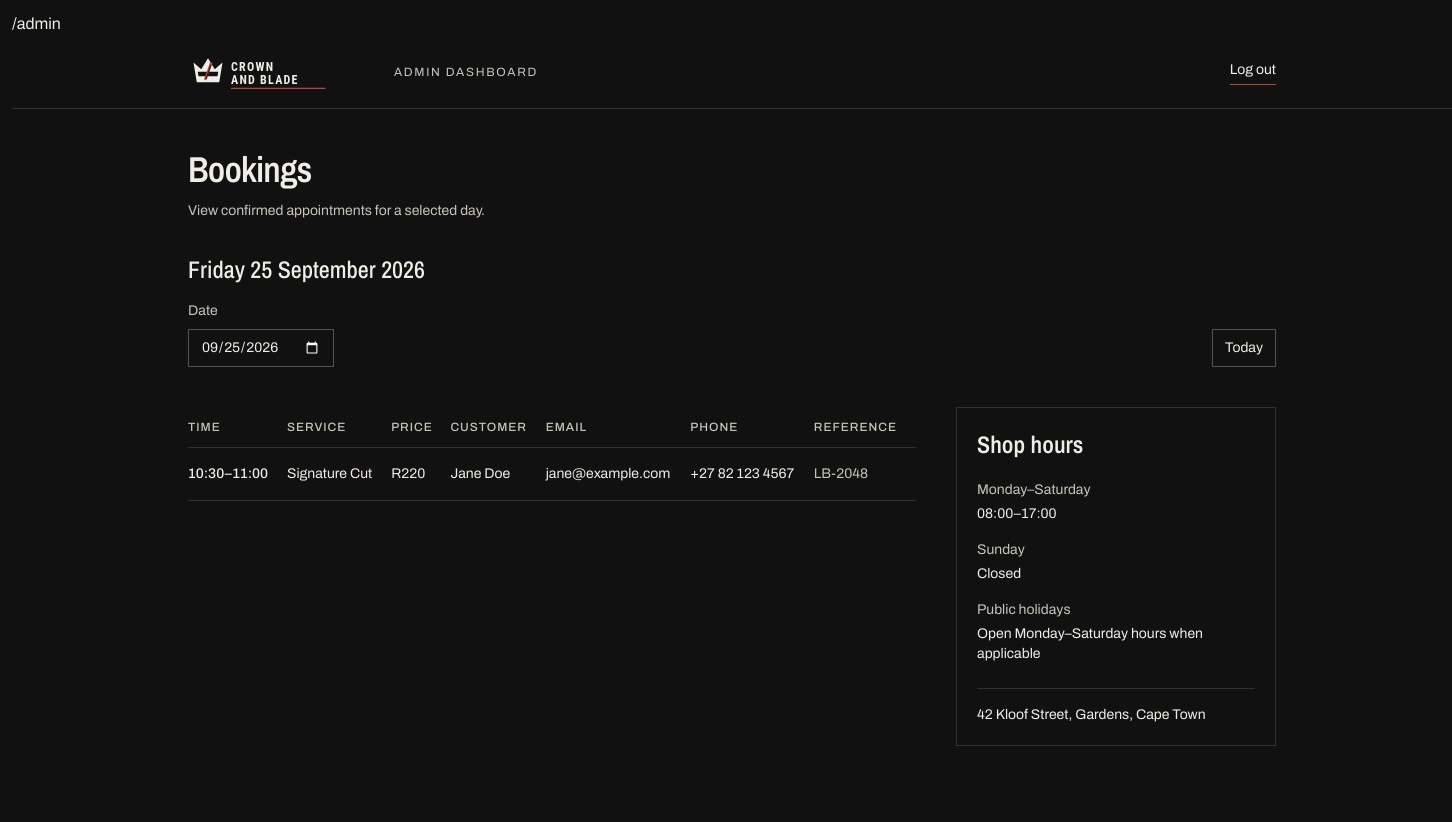
Test: admin area › logs out through the admin endpoint and returns to login
The width and height of the screenshot is (1452, 822).
Expected: the text "Jane Doe" is shown, [450,448,546,500]
Click the button "Log out". click: {"x": 1253, "y": 72}
box: [1230,60,1276,84]
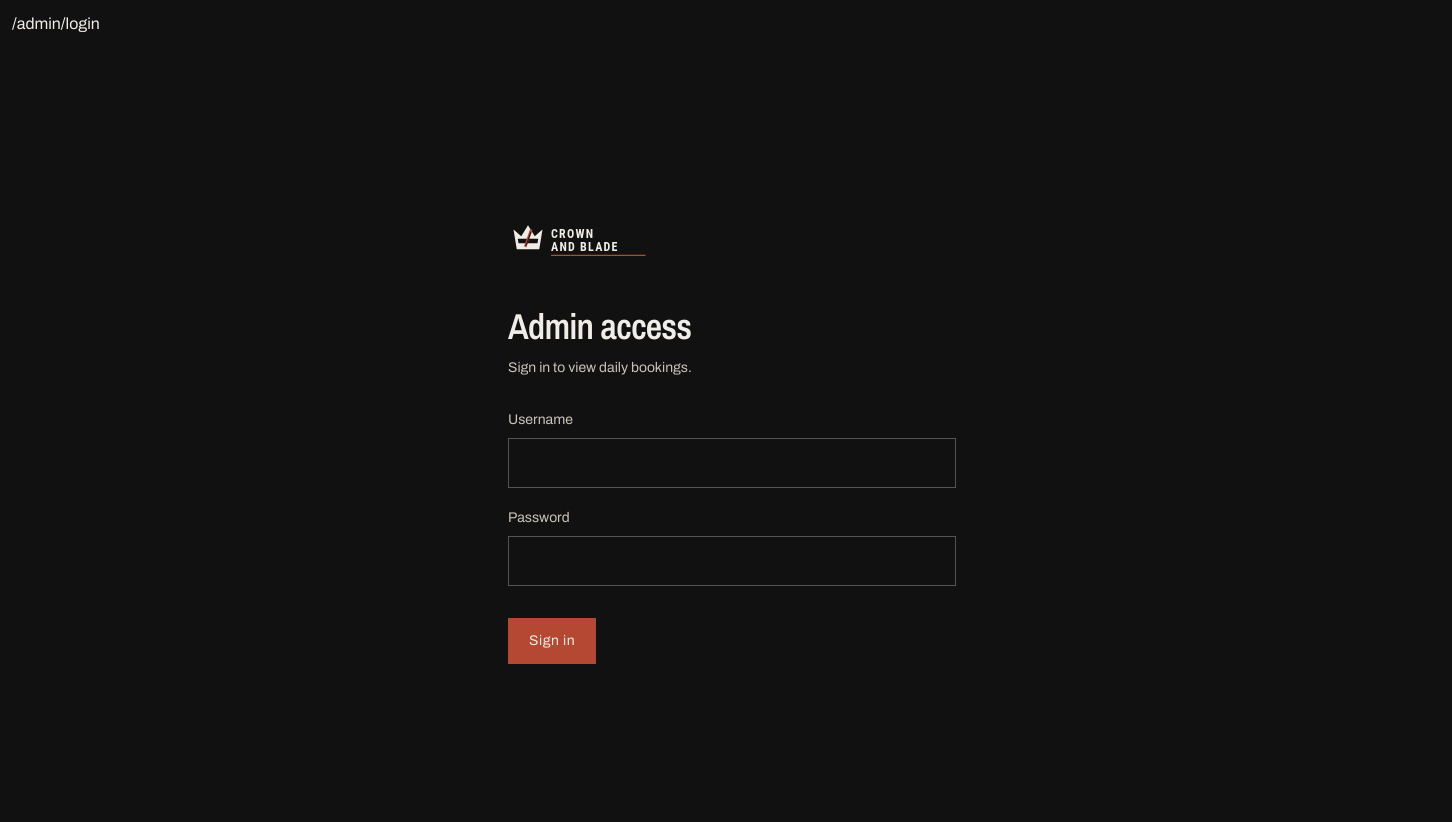
Result: the text with test id "location" reads "/admin/login" at [12,15,100,32]
